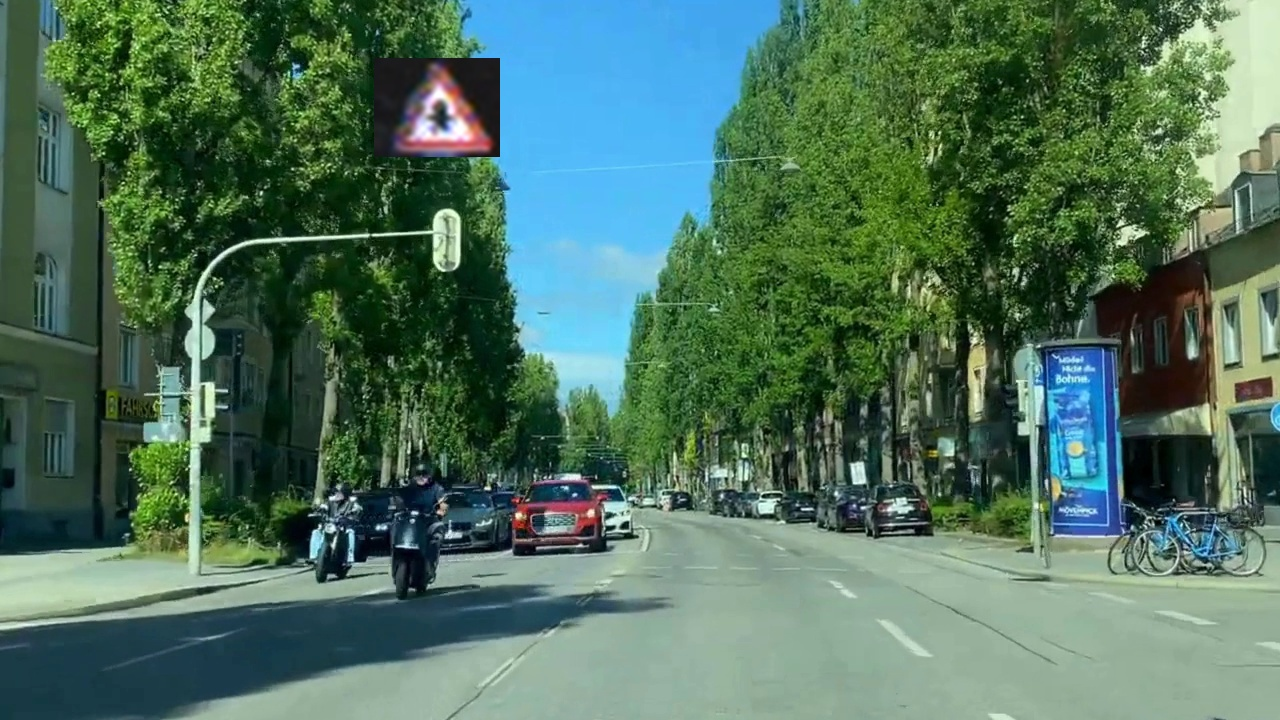Right-of-way: (374, 58, 500, 157)
